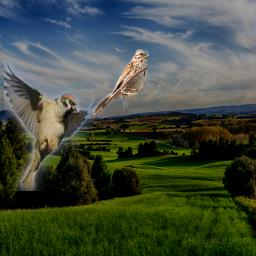Sparrow: (4, 61, 95, 191), (93, 49, 149, 115)
